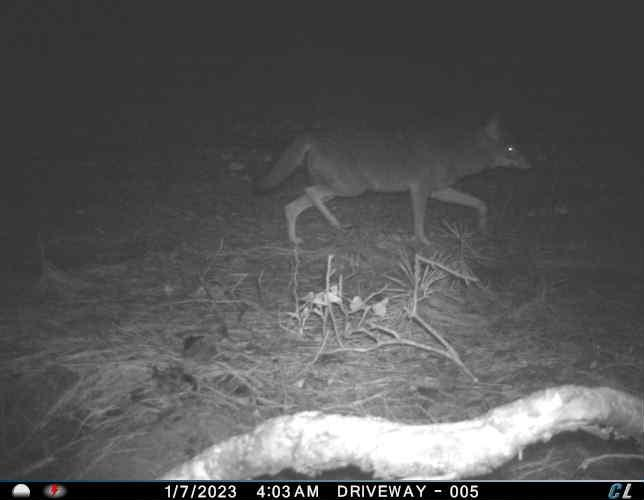Coyote: (253, 108, 537, 251)
